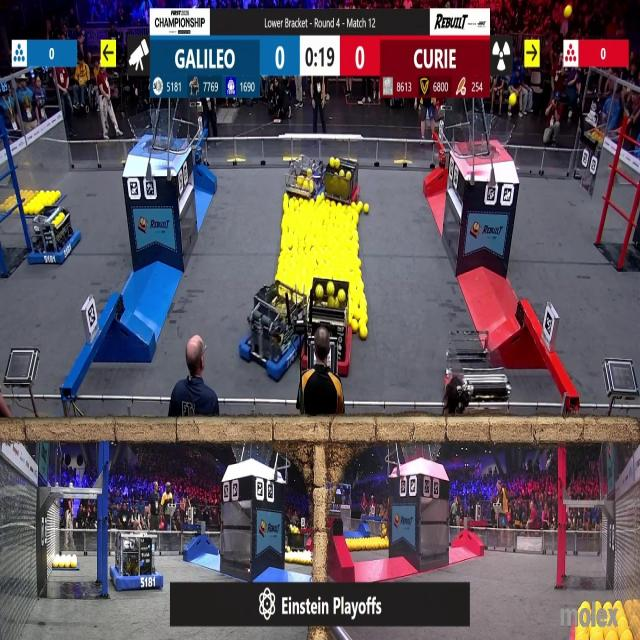ball_airborne: (510, 95, 518, 106)
ball_ground: (359, 326, 366, 339), (352, 320, 358, 330), (363, 204, 368, 214), (351, 203, 357, 211), (276, 274, 282, 282), (356, 261, 361, 269), (284, 192, 289, 199)
goal: (460, 118, 517, 158), (129, 116, 186, 151)
robot_blue: (244, 284, 306, 384), (28, 201, 81, 267), (111, 536, 160, 592), (288, 160, 326, 202), (282, 526, 306, 558), (237, 0, 309, 8)
robot_red: (303, 280, 354, 380), (451, 333, 512, 414), (324, 156, 361, 204)
